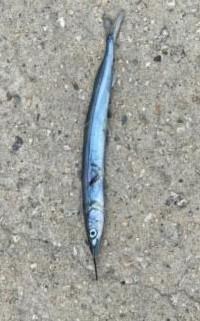fish: (82, 10, 125, 278)
